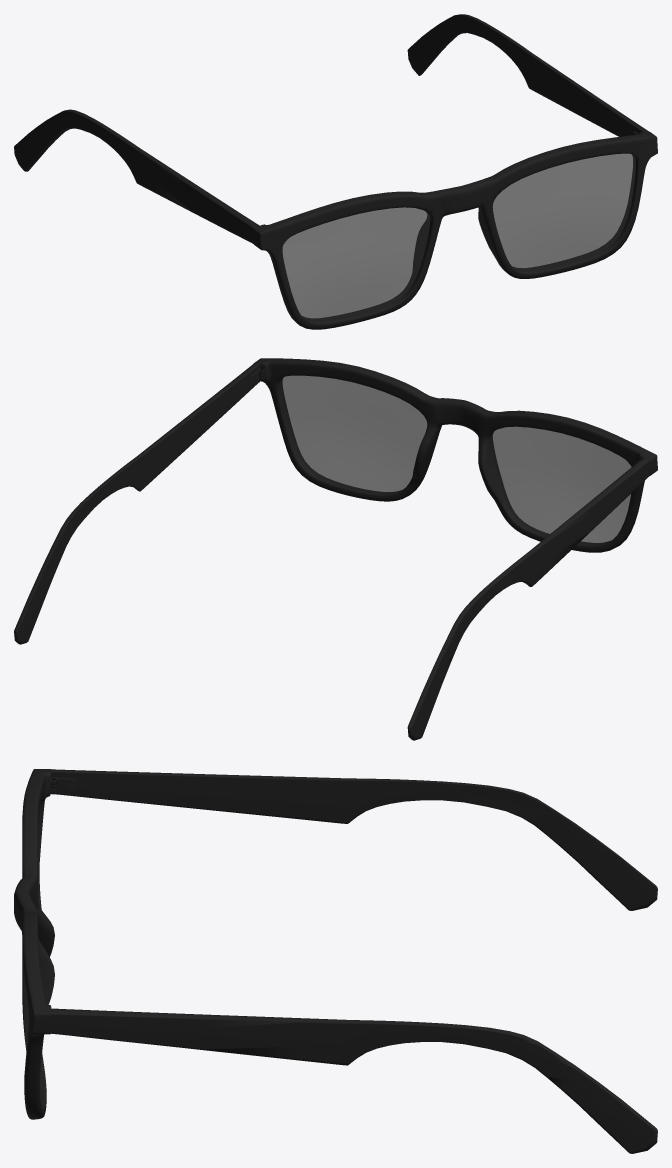
The model's file is NANAMI Glasses.glb.
3 views of the same model, one above another, from view 1: azimuth 30°, elevation 25°; view 2: azimuth 150°, elevation 25°; view 3: azimuth 270°, elevation 25° (orthographic). The views are drawn at different scales.
Visible parts, largest first — view 1: 3; view 2: 3; view 3: 3.
Part boxes in pixels (box(x1,y1,x2,y2)): 3: box(14, 14, 657, 329); 3: box(14, 358, 657, 740); 3: box(14, 769, 657, 1153).
Size of the model in its own units: 0.1506 by 0.0453 by 0.1667.
Materials: 2 (2 with a texture image).
